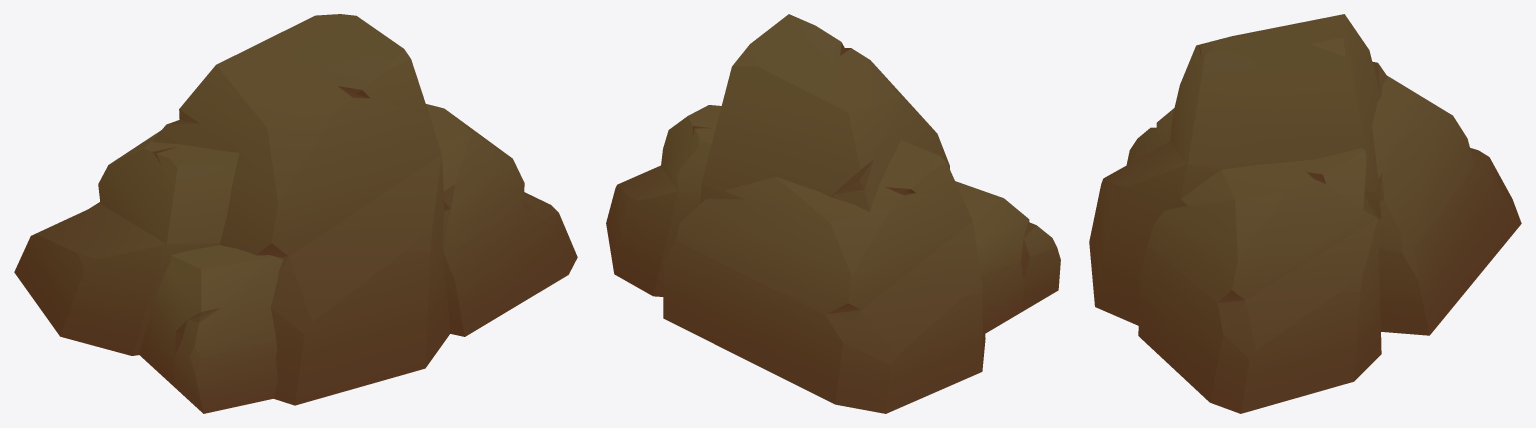
Rendered from Forest_Rocks_1.glb.
3 renders of one model, left to right at view 1: azimuth 30°, elevation 25°; view 2: azimuth 150°, elevation 25°; view 3: azimuth 270°, elevation 25°, orthographic. The views are drawn at different scales.
Parts seen in each view (by area): view 1: Object_30; view 2: Object_30; view 3: Object_30.
Part boxes in pixels (<box>): Object_30: <box>14,14,577,413</box>; Object_30: <box>606,14,1060,413</box>; Object_30: <box>1089,14,1521,413</box>.
Bounding box in the file's own units: 69.2 × 39.03 × 53.88.
